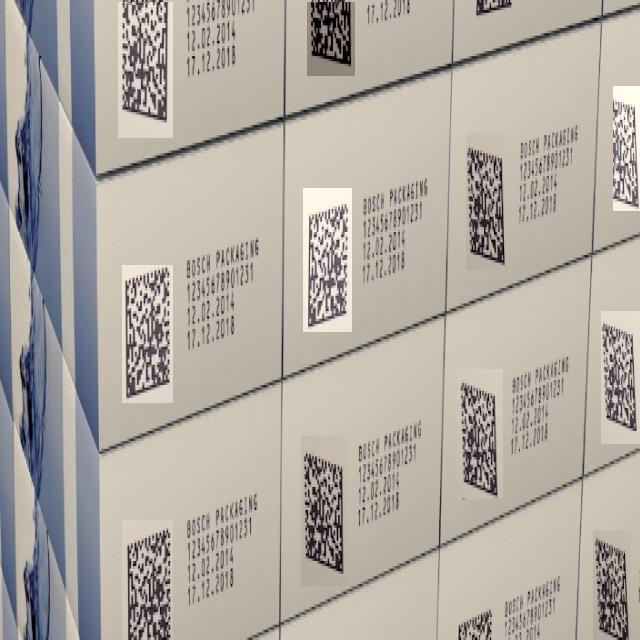Data-Matrix: (118, 2, 173, 138), (303, 188, 352, 332), (122, 265, 173, 403), (301, 436, 347, 586), (122, 520, 173, 640), (457, 370, 503, 500), (467, 133, 509, 270), (601, 311, 640, 444), (593, 530, 631, 640), (307, 3, 355, 77), (613, 86, 640, 211)
